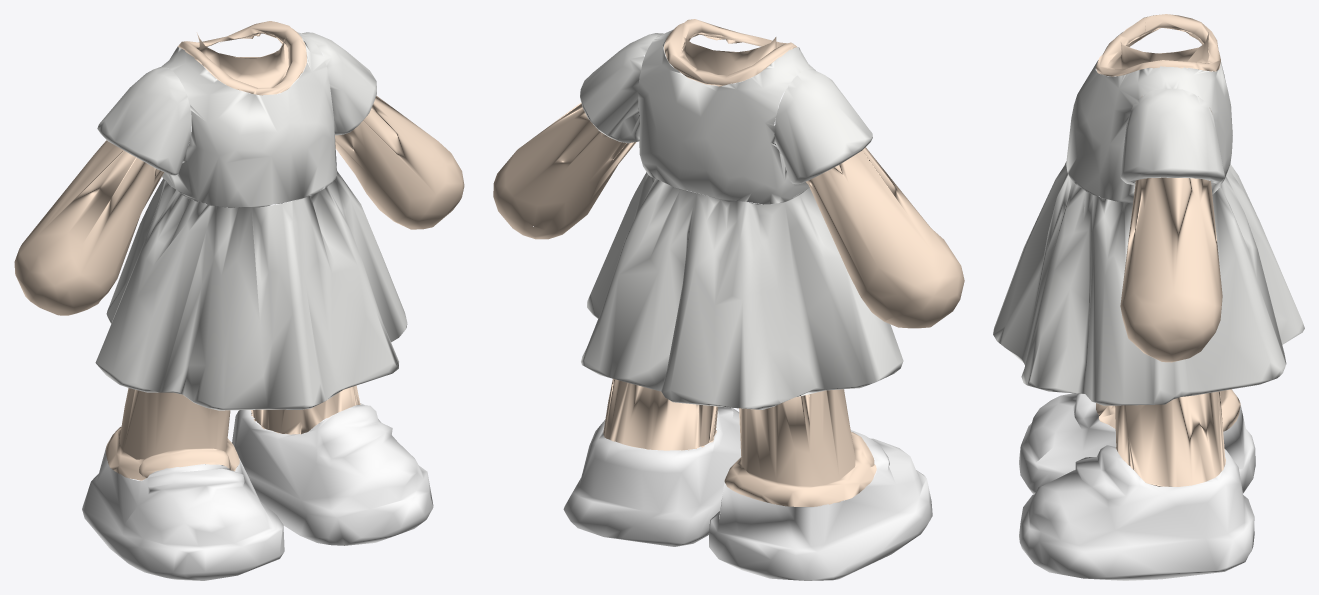
The model's file is outfit_sundress_lo.glb.
The picture shows the model from 3 angles, left to right: view 1: azimuth 30°, elevation 25°; view 2: azimuth 150°, elevation 25°; view 3: azimuth 270°, elevation 25°; orthographic projection. The views are drawn at different scales.
Visible parts, largest first — view 1: top, shoe_l, top_2, shoe_r, hand_r, hand_l, leg_r, sleeve_r, neck, sleeve_l, leg_l; view 2: top, top_2, shoe_r, hand_r, shoe_l, leg_r, hand_l, sleeve_r, leg_l, neck, sleeve_l; view 3: top, shoe_l, hand_l, top_2, leg_l, sleeve_l, shoe_r, neck, leg_r.
Part boxes in pixels (box(x1,y1,x2,y2)): top: box(95, 171, 407, 410); shoe_l: box(221, 403, 433, 545); top_2: box(162, 32, 337, 207); shoe_r: box(82, 446, 284, 580); hand_r: box(14, 140, 164, 315); hand_l: box(335, 95, 464, 229); leg_r: box(106, 388, 239, 480); sleeve_r: box(97, 66, 191, 175); neck: box(178, 21, 306, 95); sleeve_l: box(302, 32, 376, 135); leg_l: box(250, 385, 360, 434); top: box(581, 172, 903, 409); top_2: box(638, 29, 815, 204); shoe_r: box(709, 430, 932, 580); hand_r: box(806, 147, 964, 328); shoe_l: box(563, 406, 741, 546); leg_r: box(724, 389, 876, 506); hand_l: box(493, 103, 636, 239); sleeve_r: box(774, 69, 872, 184); leg_l: box(603, 379, 717, 450); neck: box(664, 19, 797, 86); sleeve_l: box(580, 33, 663, 143); top: box(993, 161, 1304, 405); shoe_l: box(1019, 445, 1254, 580); hand_l: box(1120, 178, 1222, 362); top_2: box(1066, 23, 1232, 203); leg_l: box(1115, 391, 1225, 486); sleeve_l: box(1120, 88, 1224, 185); shoe_r: box(1019, 393, 1255, 494); neck: box(1095, 14, 1220, 76); leg_r: box(1096, 389, 1240, 431).
Bounding box in the file's own units: 0.5517 × 0.5772 × 0.3396.
